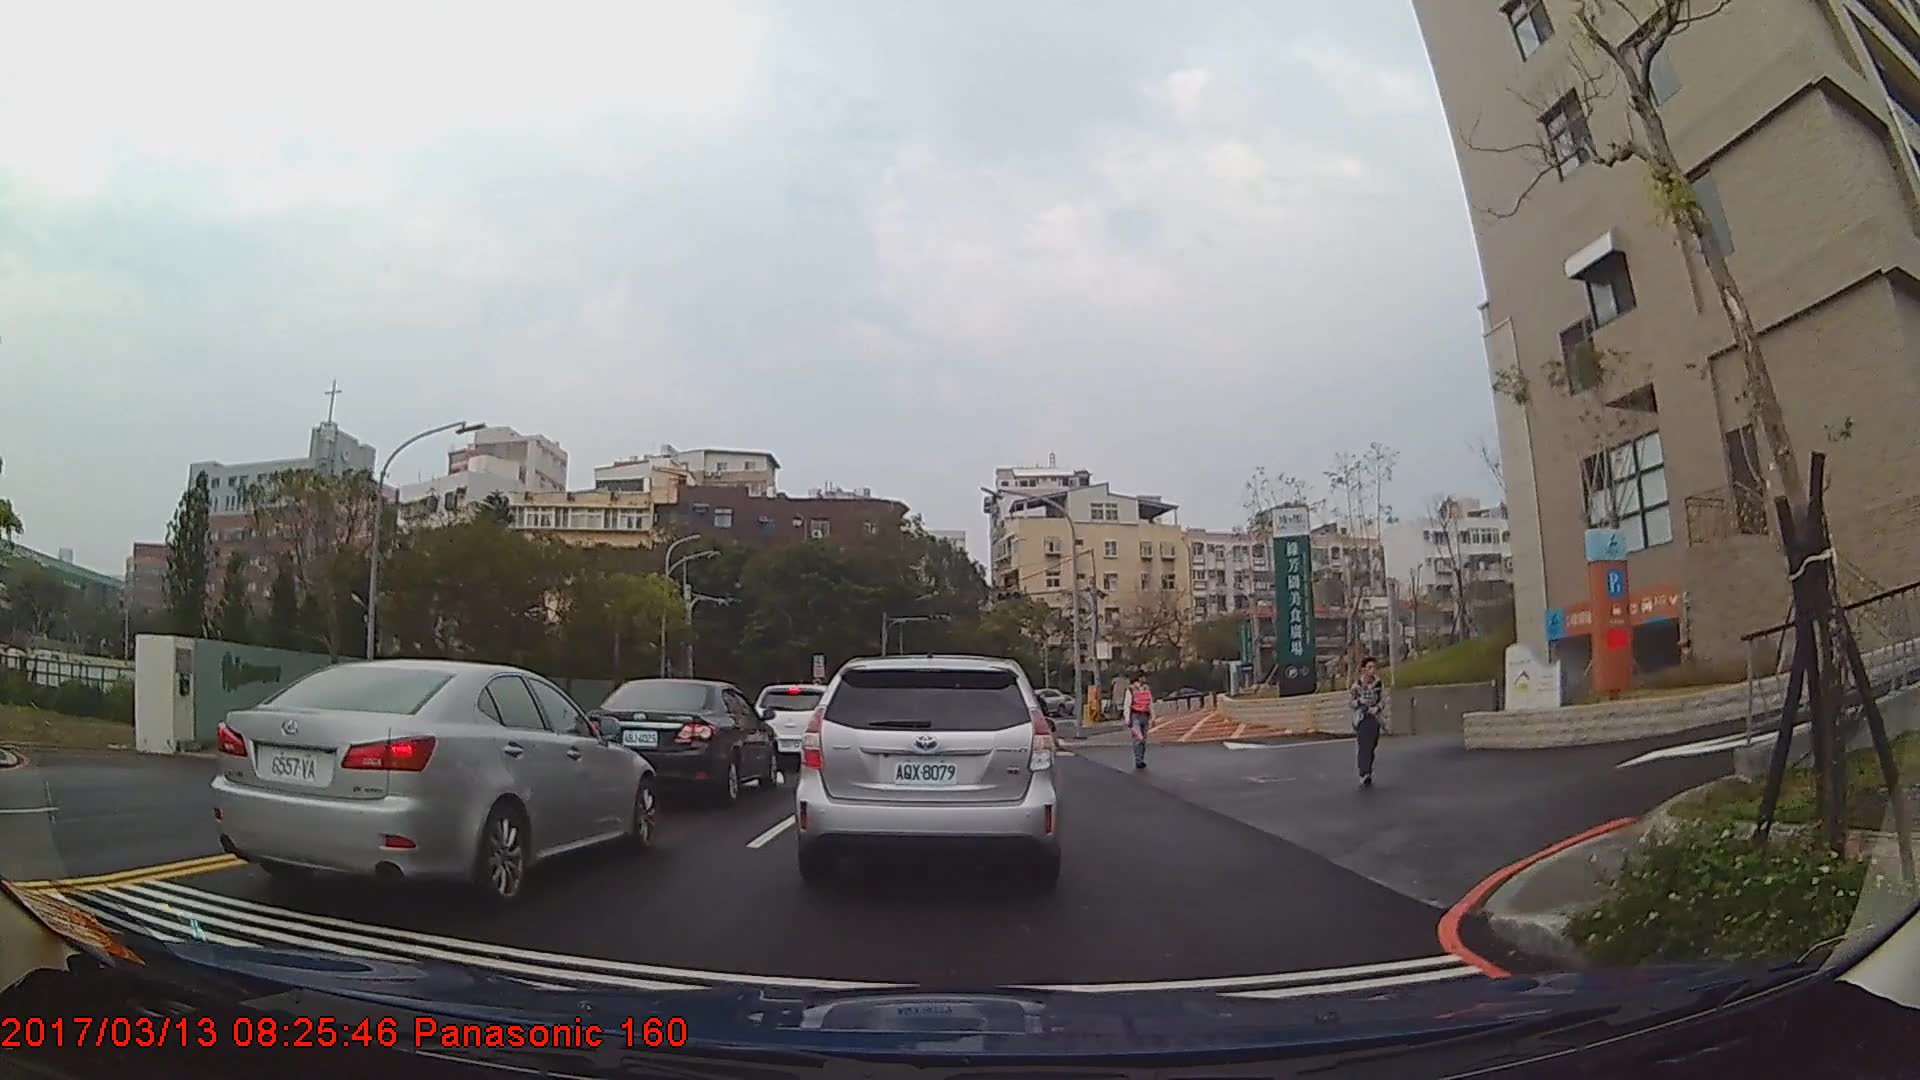pedestrian: (1349, 654, 1390, 789), (1124, 669, 1158, 770)
vehicle: (213, 659, 658, 903), (793, 654, 1060, 889), (582, 676, 779, 801), (752, 682, 838, 768)
